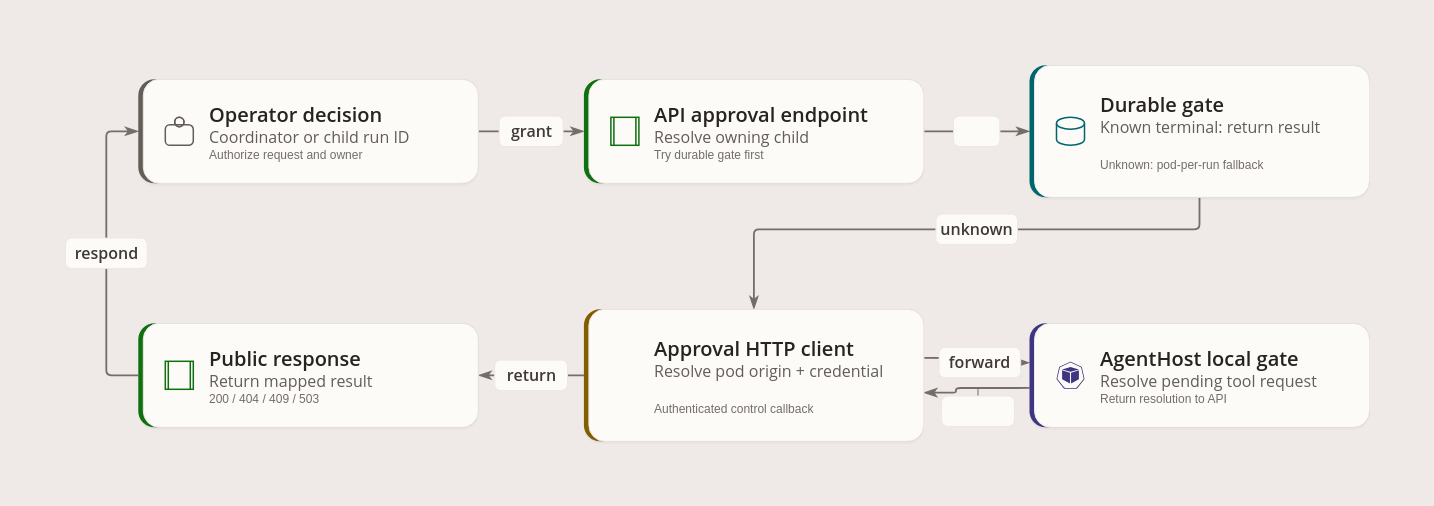
This 1434x506 diagram has some shape labels left out. The centre of each missing label's shape, as x and y in pixels:
result: [977,410]
try: [976,130]
